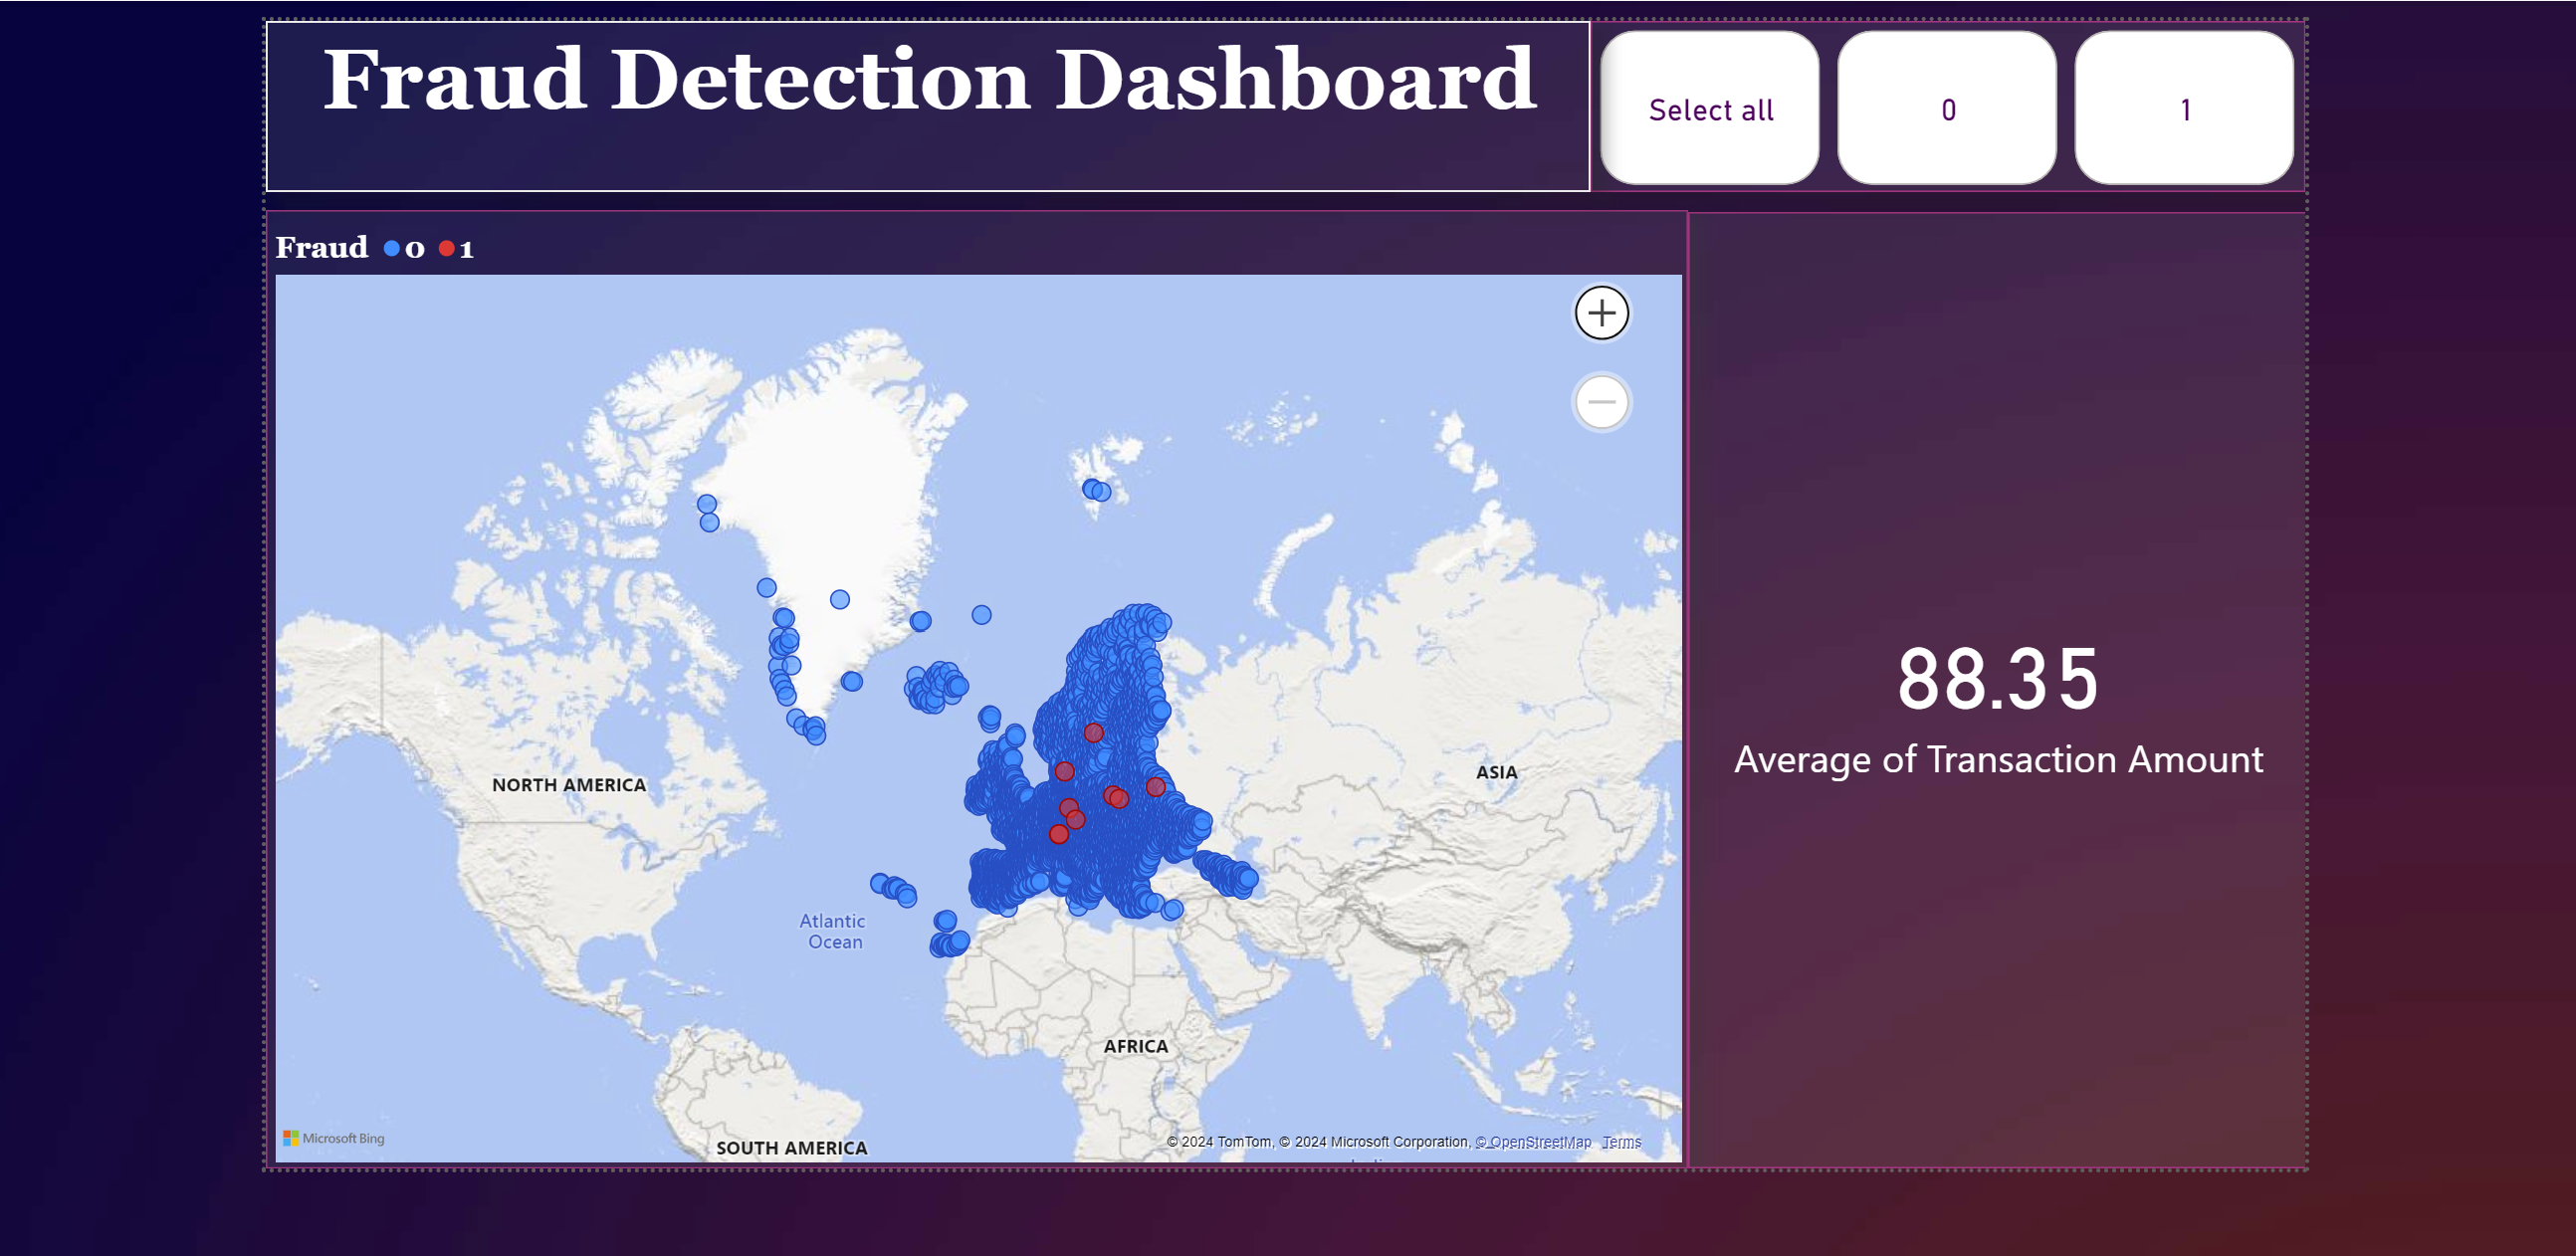

Layout of this report page (visuals, bound fields, positions):
{"tool":"powerbi","page":{"name":"Page 1","canvas":[1280,720],"ordinal":0},"visuals":[{"type":"map","fields":{"X":["CityList.lon"],"Y":["CityList.lat"],"Series":["CreditCard.Fraud"]},"box":[0,118.8,892.5,601.2],"z":0},{"type":"card","fields":{"Values":["Avg(CreditCard.Amount)"]},"box":[892.5,120,388.8,600],"z":1000},{"type":"advancedSlicerVisual","fields":{"Values":["CreditCard.Fraud"]},"box":[831.2,0,448.8,107.5],"z":2000},{"type":"textbox","title":"hhh","box":[0,0,831.2,107.5],"z":3000}]}

Visuals, with their boxes on the page's 1280x720 design canvas (x1, y1, x2, y2). These are canvas units, not pixel positions in the 2576x1256 screenshot, which may show the page scaled, cropped or inside an application window:
map - CityList.lon x CityList.lat: bbox(0, 119, 892, 720)
card - Avg(CreditCard.Amount): bbox(892, 120, 1281, 720)
advancedSlicerVisual - CreditCard.Fraud: bbox(831, 0, 1280, 108)
"hhh" textbox: bbox(0, 0, 831, 108)
